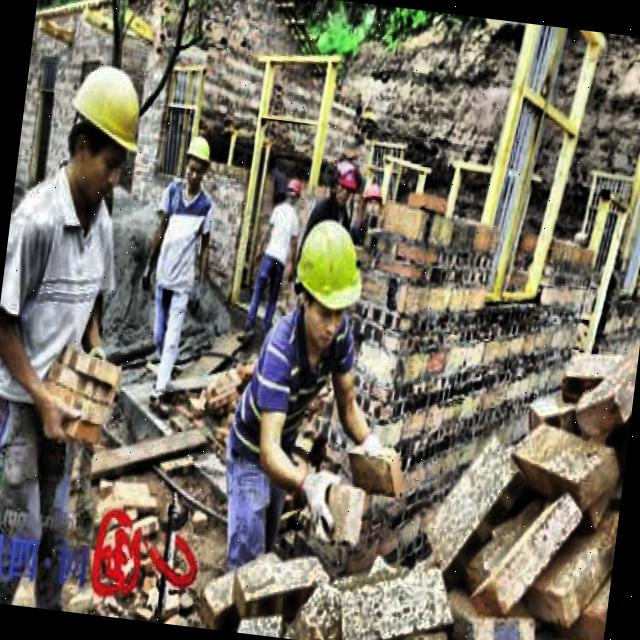helmet: (54, 57, 154, 212), (282, 214, 372, 354), (178, 126, 216, 195), (328, 160, 363, 212), (358, 179, 388, 228), (284, 172, 304, 208)
